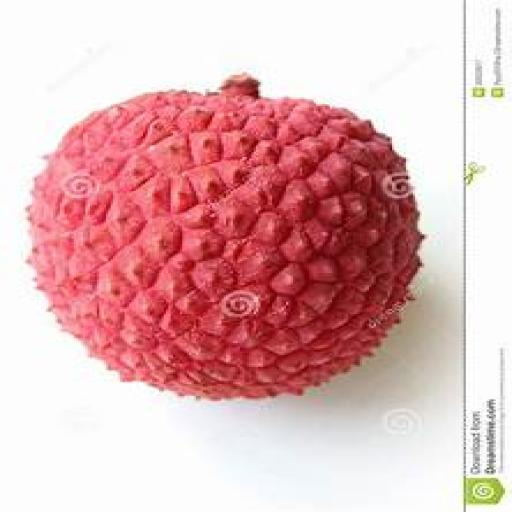lychee: (30, 76, 422, 399)
